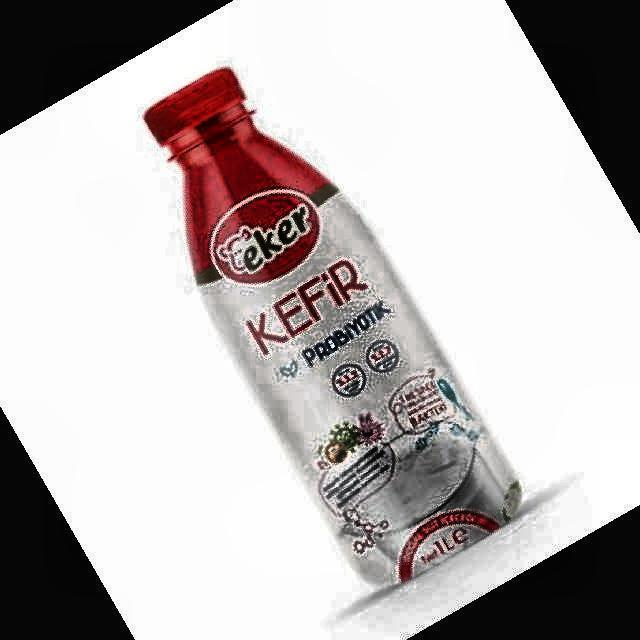plastic: (145, 68, 519, 582)
